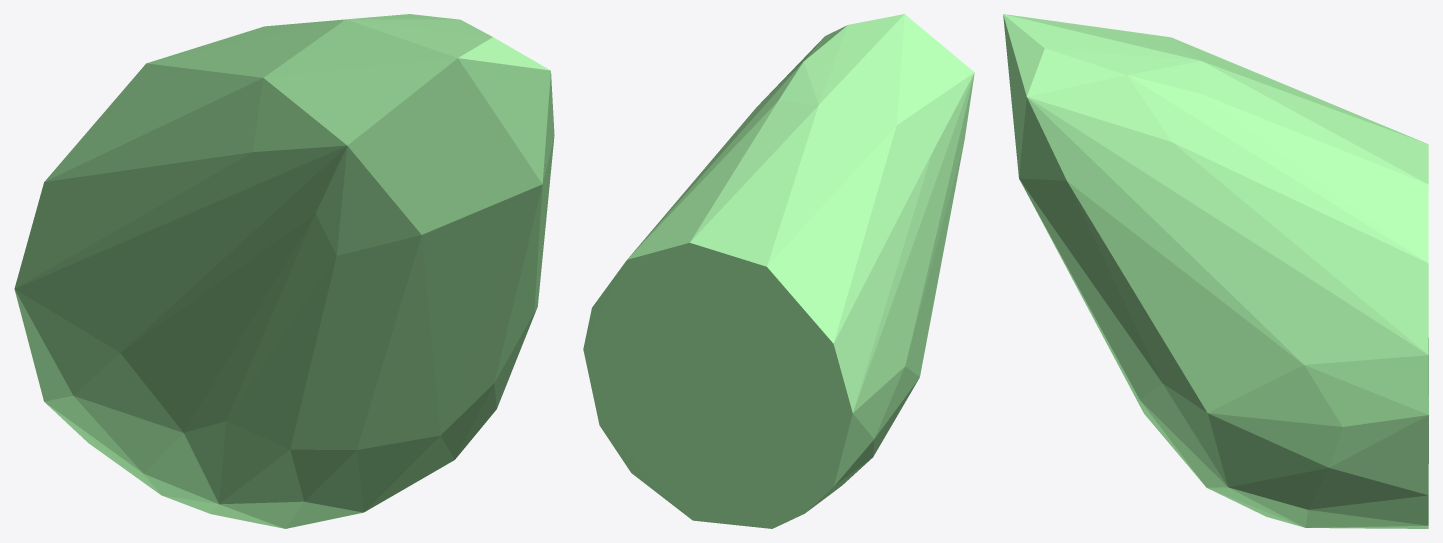
File: dualpanda_Panda_leftArm_link5_respondable_coll_7.dae
3 views of the same model, side by side, from view 1: azimuth 30°, elevation 25°; view 2: azimuth 150°, elevation 25°; view 3: azimuth 270°, elevation 25° (orthographic). The views are drawn at different scales.
Parts seen in each view (by area): view 1: node; view 2: node; view 3: node.
Part boxes in pixels (box(x1,y1,x2,y2)): node: box(14, 14, 554, 528); node: box(583, 14, 974, 528); node: box(1003, 14, 1428, 528).
Size of the model in its own units: 0.1111 by 0.1545 by 0.1217.
